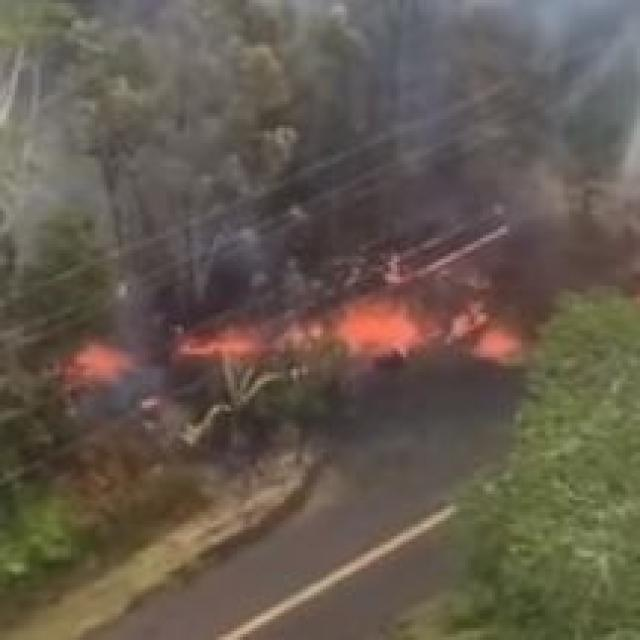Fire: (47, 278, 580, 398)
Smoke: (56, 0, 640, 347)
